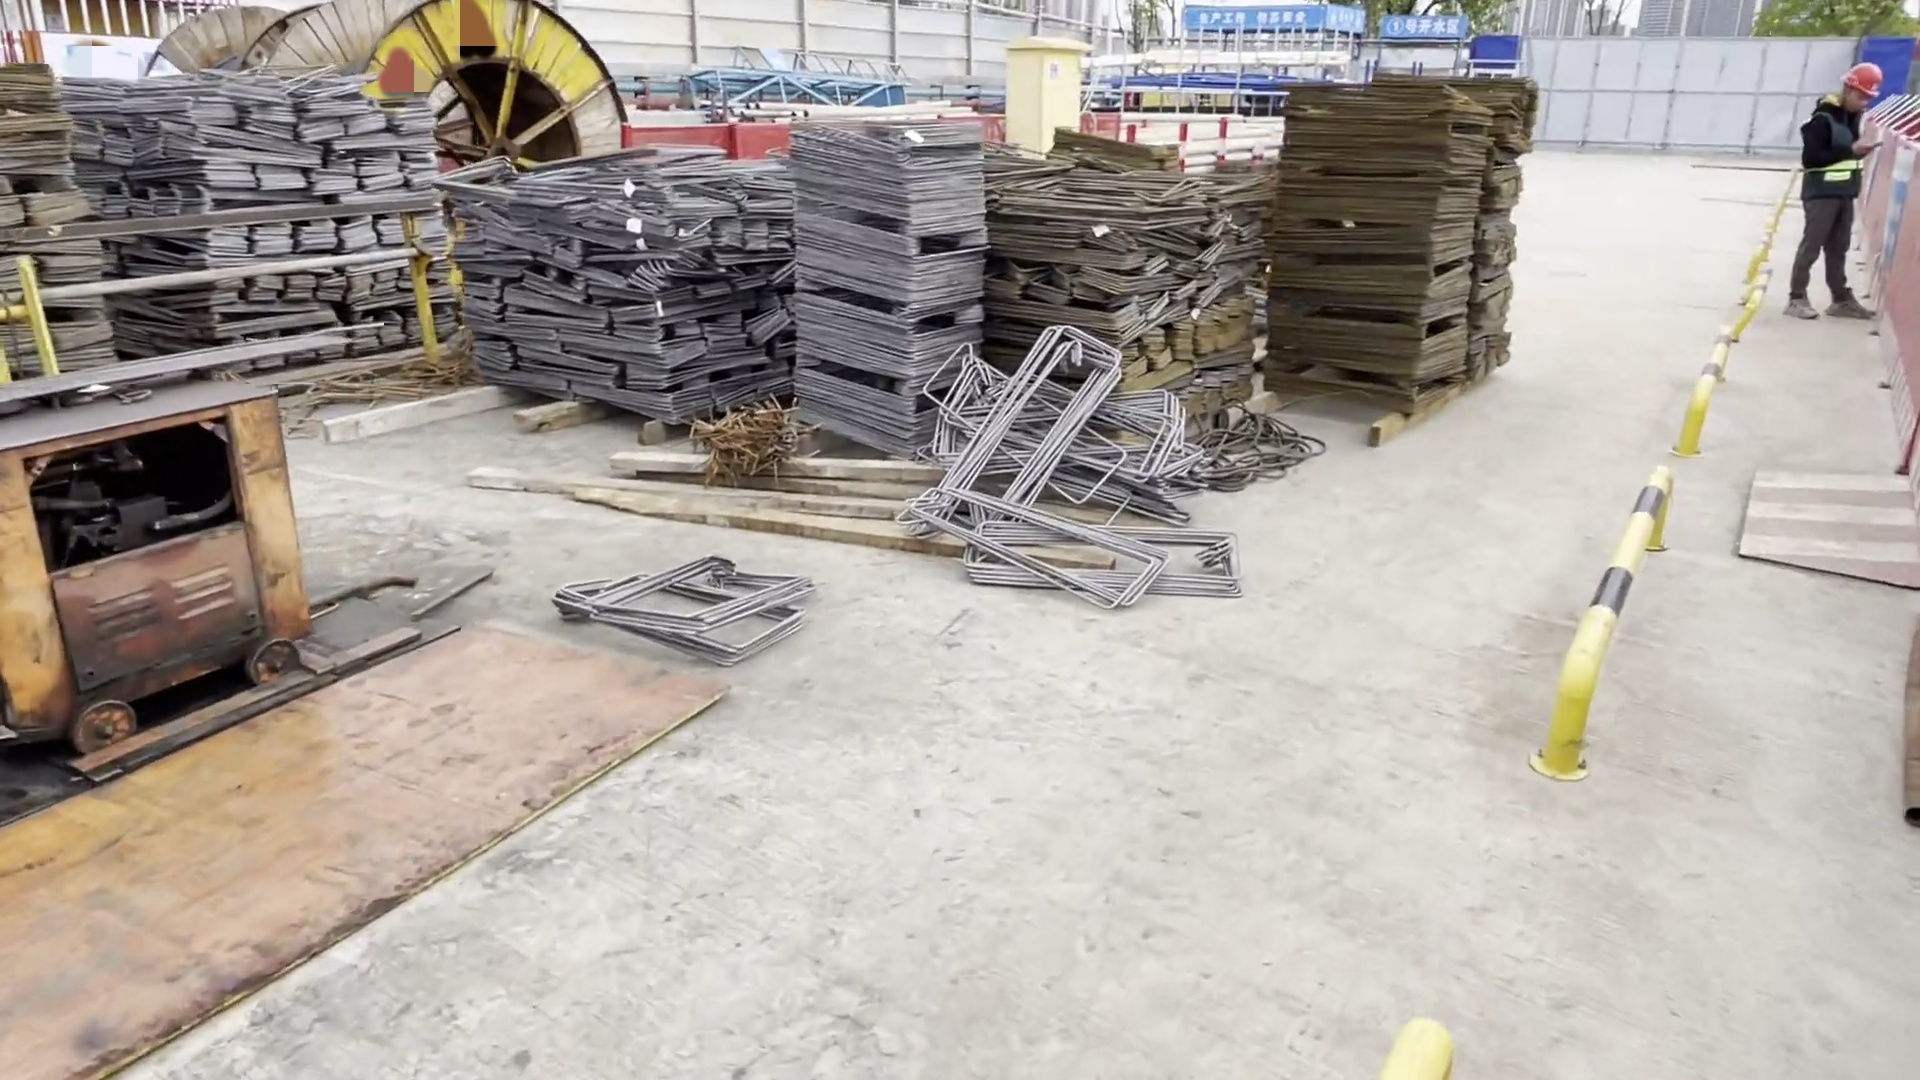cutter: (4, 316, 388, 755)
ebox: (1004, 39, 1082, 153)
fence: (1864, 127, 1920, 455), (626, 123, 799, 158)
helmet: (1841, 69, 1887, 101)
person: (1775, 64, 1875, 320)
slogan: (1186, 8, 1327, 30)
